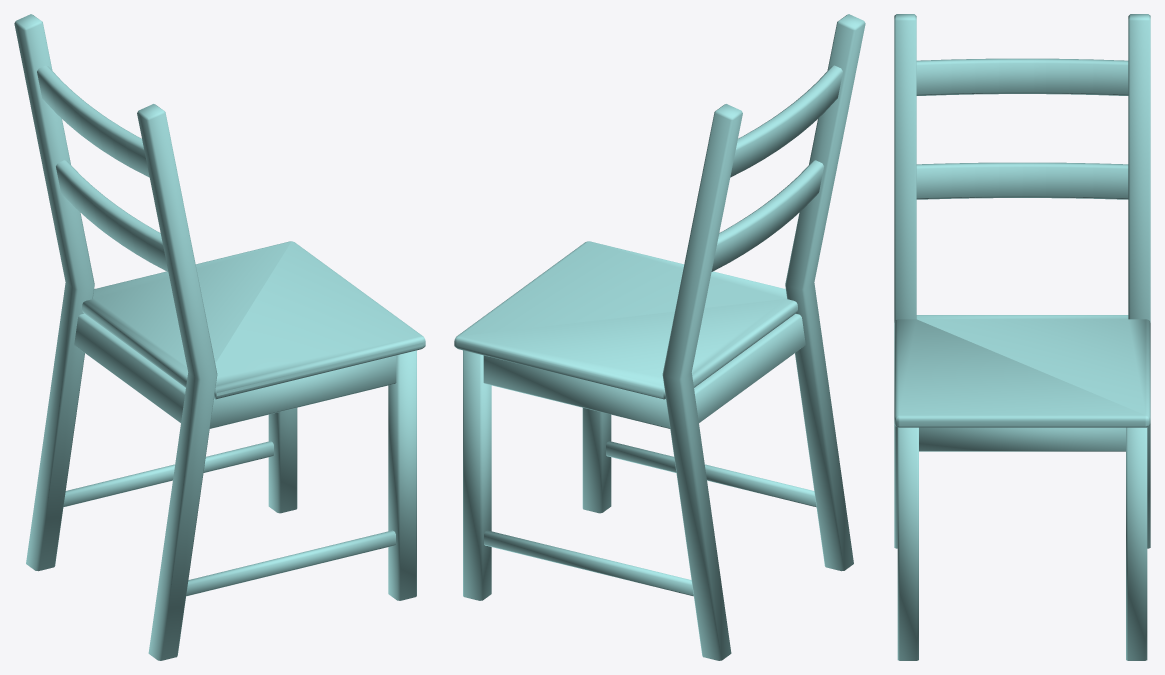
Rendered from Chair.obj.
3 views of the same model, side by side, from view 1: azimuth 30°, elevation 25°; view 2: azimuth 150°, elevation 25°; view 3: azimuth 270°, elevation 25° (orthographic). The views are drawn at different scales.
Parts seen in each view (by area): view 1: Chair1; view 2: Chair1; view 3: Chair1.
Boxes of the visible parts, x1,y1,x2,y2 form: Chair1: (14,14,425,660); Chair1: (454,14,865,660); Chair1: (894,14,1150,660).
Bounding box in the file's own units: 1.43 × 2.68 × 1.19.
